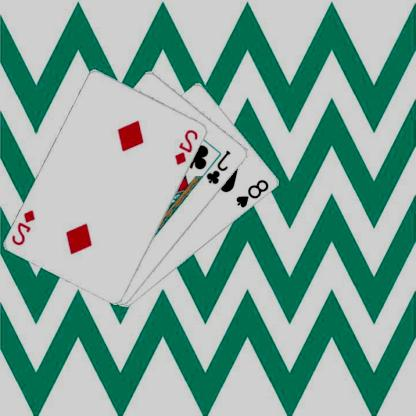2D: (174, 127, 202, 166), (11, 207, 38, 246)
8S: (235, 177, 272, 209)
JC: (206, 147, 234, 186)
